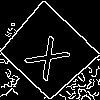X: (23, 26, 79, 83)
